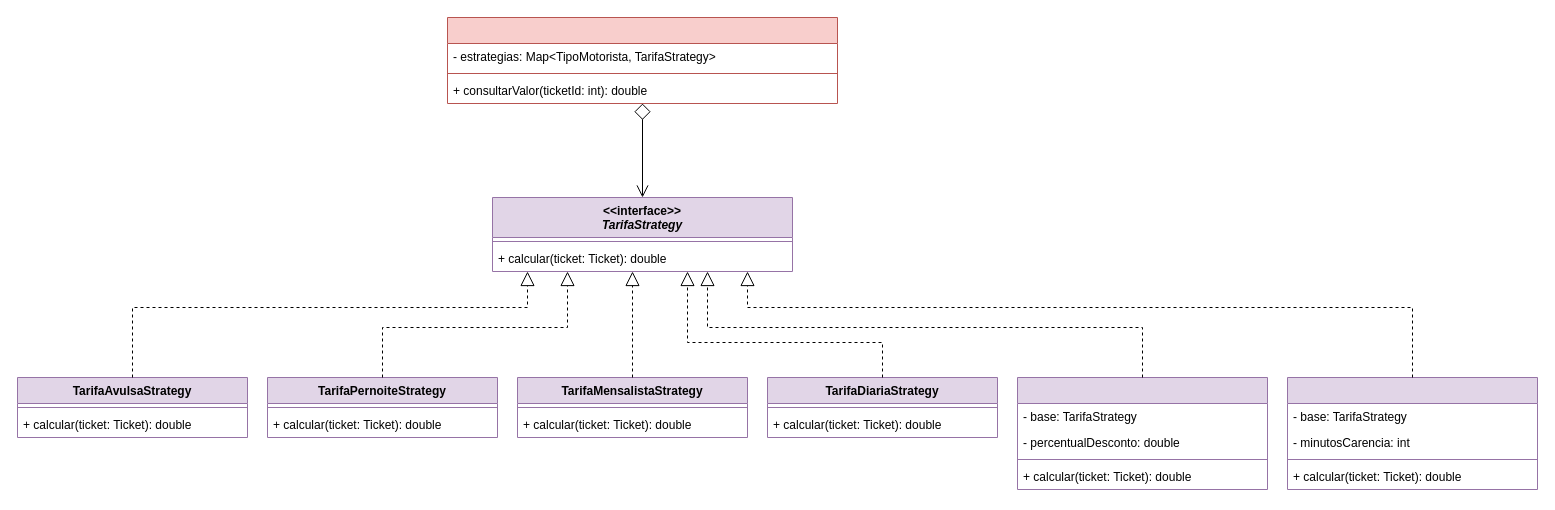
This 1555x510 diagram has some shape labels left out. Here are the shapes that lost their labels. From the top down, the box of each, then its label:
(446, 16, 838, 104): EstacionamentoFacade
(1016, 376, 1268, 490): TarifaConvenioStrategy
(1286, 376, 1538, 490): IsencaoCarenciaStrategy
